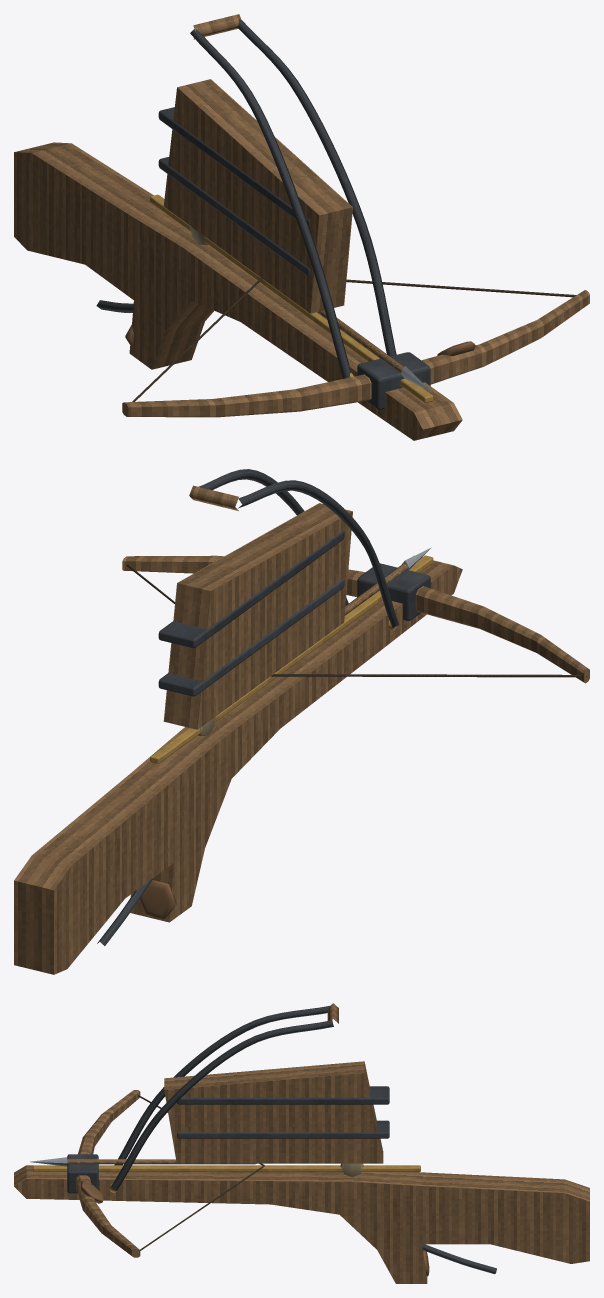
The model's file is repeating-crossbow.lod2.glb.
The picture shows the model from 3 angles, top to bottom: view 1: azimuth 30°, elevation 25°; view 2: azimuth 150°, elevation 25°; view 3: azimuth 270°, elevation 25°; orthographic projection. The views are drawn at different scales.
Visible parts, largest first — view 1: wood / oiled hardwood, darksteel / oil-blackened fittings, brass / polished brass furniture, cord / waxed silk cord wrap; view 2: wood / oiled hardwood, darksteel / oil-blackened fittings, brass / polished brass furniture, cord / waxed silk cord wrap, drawbore peg; view 3: wood / oiled hardwood, darksteel / oil-blackened fittings, brass / polished brass furniture, drawbore peg.
Boxes of the visible parts, x1,y1,x2,y2 form: wood / oiled hardwood: (14,14,589,440); darksteel / oil-blackened fittings: (96,19,430,409); brass / polished brass furniture: (150,194,433,402); cord / waxed silk cord wrap: (132,278,576,401); wood / oiled hardwood: (14,485,589,974); darksteel / oil-blackened fittings: (97,469,430,945); brass / polished brass furniture: (150,555,433,763); cord / waxed silk cord wrap: (126,564,586,677); drawbore peg: (140,880,176,919); wood / oiled hardwood: (14,1003,589,1283); darksteel / oil-blackened fittings: (67,1005,496,1274); brass / polished brass furniture: (32,1165,420,1192); drawbore peg: (80,1180,429,1276).
Size of the model in its own units: 0.6018 by 0.469 by 0.92.
Materials: 7 (6 with a texture image).
